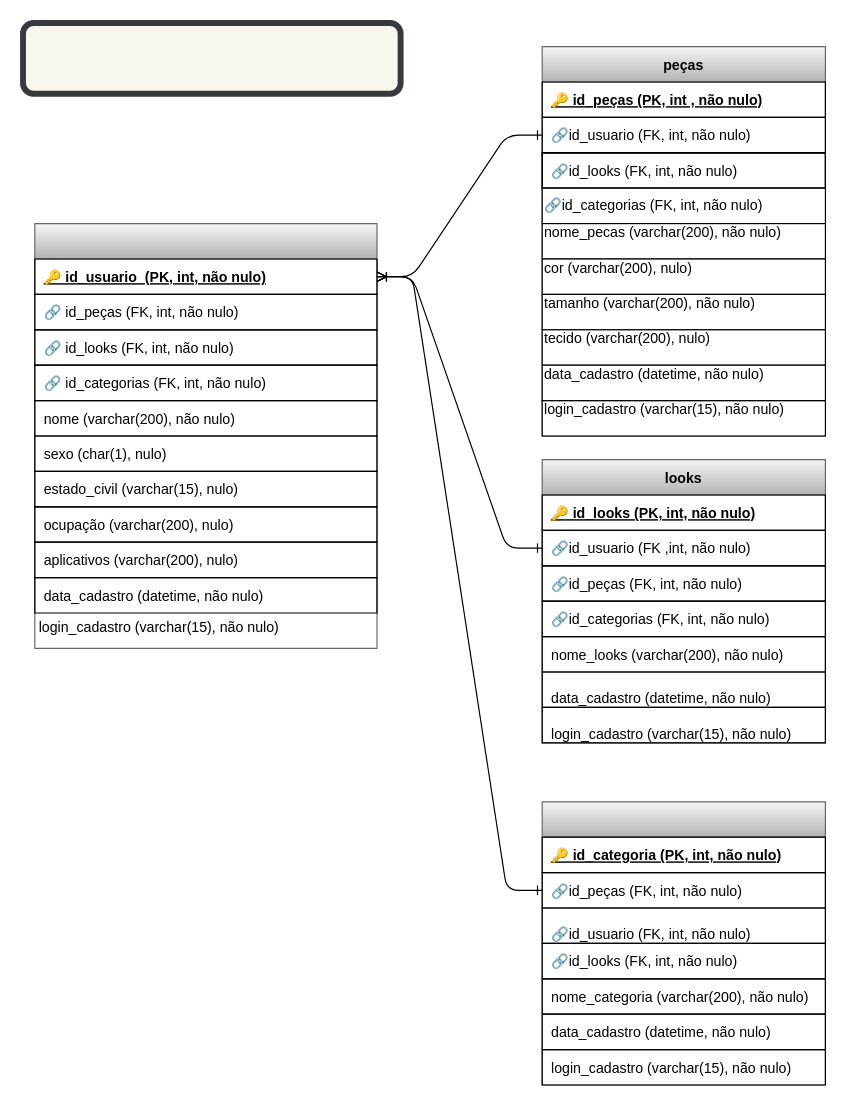
The diagram is 846 pixels wide and 1106 high, and some of its shapes have lost their labels. Each missing label, with the box of its shape:
categorias: (541, 801, 825, 1085)
Esquema relacional: (19, 19, 403, 96)
usuários: (34, 222, 377, 648)
